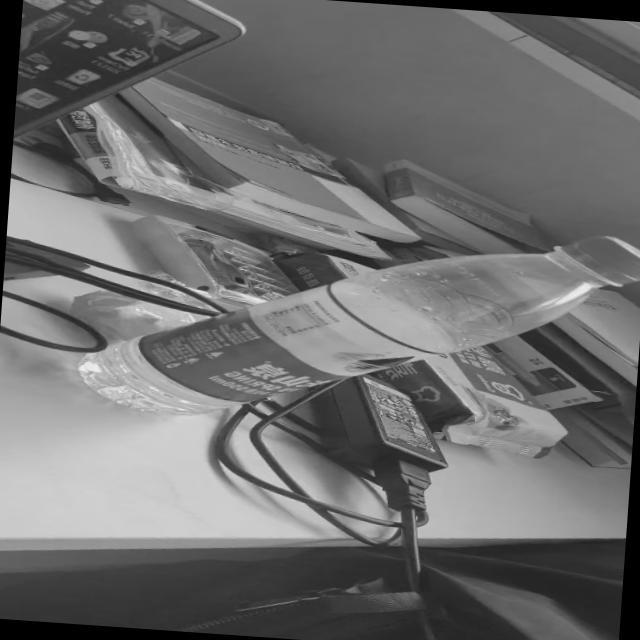good: (67, 198, 640, 445)
